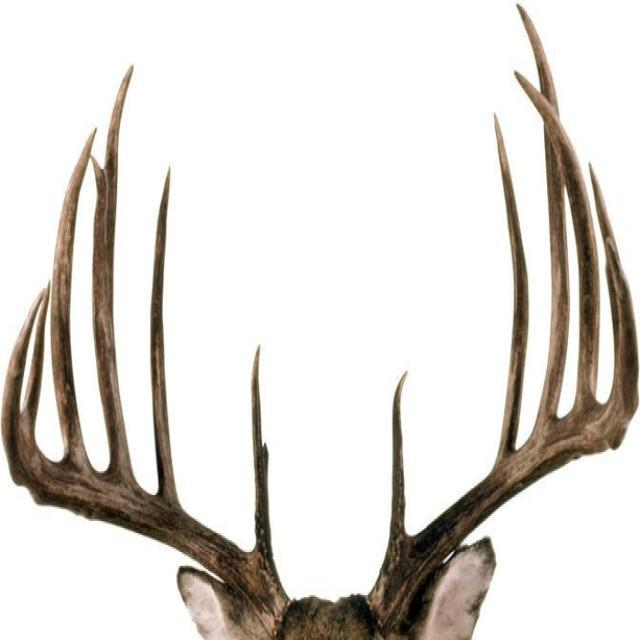L-F: (366, 234, 640, 632)
L-G1: (385, 370, 409, 558)
L-G2: (494, 112, 529, 462)
L-G4: (513, 70, 601, 406)
R-F: (0, 286, 292, 637)
R-G1: (250, 342, 275, 568)
R-G2: (149, 163, 180, 505)
R-G3: (92, 62, 138, 486)
R-G4: (50, 128, 97, 465)
